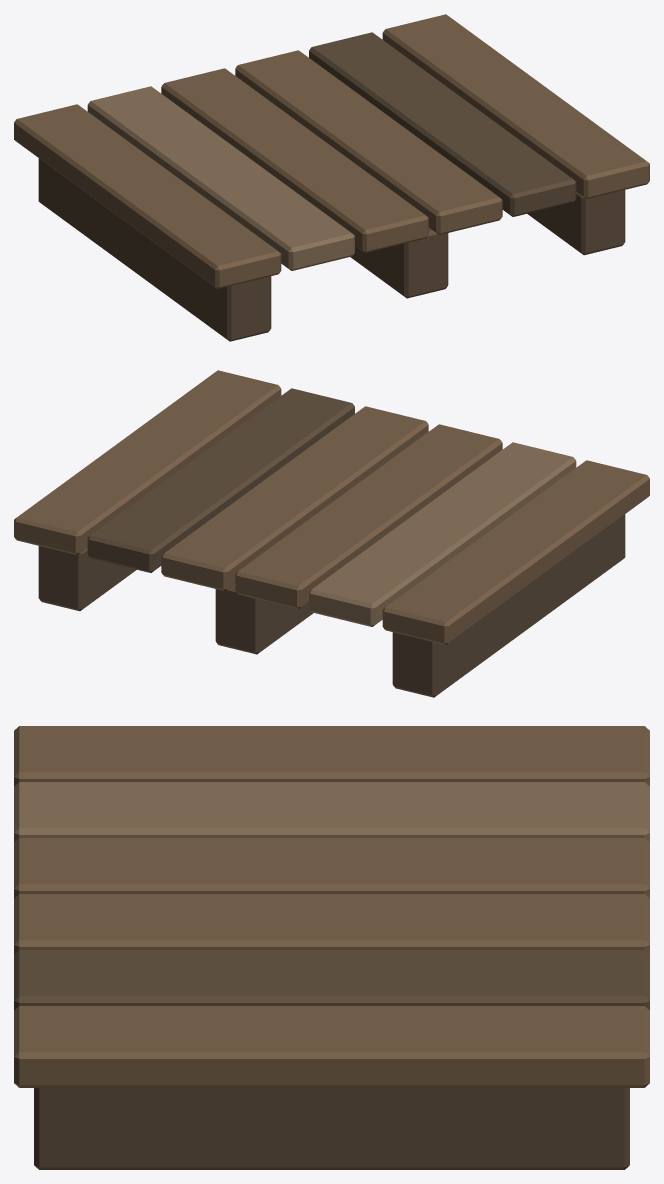
The model's file is Pallet01.fbx.
The picture shows the model from 3 angles, top to bottom: view 1: azimuth 30°, elevation 25°; view 2: azimuth 150°, elevation 25°; view 3: azimuth 270°, elevation 25°; orthographic projection. The views are drawn at different scales.
Visible parts, largest first — view 1: Deck_Plank, Deck_Plank.003, Deck_Plank.004, Deck_Plank.002, Deck_Plank.001, Deck_Plank.005, Runner, Runner.001, Runner.002; view 2: Deck_Plank, Deck_Plank.003, Deck_Plank.004, Deck_Plank.002, Deck_Plank.001, Deck_Plank.005, Runner, Runner.001, Runner.002; view 3: Deck_Plank.005, Runner.002, Deck_Plank, Deck_Plank.001, Deck_Plank.002, Deck_Plank.003, Deck_Plank.004.
Boxes of the visible parts, <box> form: Deck_Plank: <box>14,104,281,288</box>; Deck_Plank.003: <box>235,50,502,234</box>; Deck_Plank.004: <box>309,32,576,216</box>; Deck_Plank.002: <box>161,68,428,252</box>; Deck_Plank.001: <box>87,86,354,270</box>; Deck_Plank.005: <box>382,14,649,199</box>; Runner: <box>38,158,271,341</box>; Runner.001: <box>350,228,448,298</box>; Runner.002: <box>527,190,625,255</box>; Deck_Plank: <box>382,460,649,644</box>; Deck_Plank.003: <box>161,406,428,590</box>; Deck_Plank.004: <box>87,388,354,572</box>; Deck_Plank.002: <box>235,424,502,608</box>; Deck_Plank.001: <box>309,442,576,626</box>; Deck_Plank.005: <box>14,370,281,555</box>; Runner: <box>392,514,625,697</box>; Runner.001: <box>215,584,313,654</box>; Runner.002: <box>38,546,136,611</box>; Deck_Plank.005: <box>14,1006,649,1087</box>; Runner.002: <box>34,1088,629,1169</box>; Deck_Plank: <box>14,726,649,786</box>; Deck_Plank.001: <box>14,782,649,842</box>; Deck_Plank.002: <box>14,838,649,898</box>; Deck_Plank.003: <box>14,894,649,954</box>; Deck_Plank.004: <box>14,950,649,1010</box>.
Size of the model in its own units: 118 by 22 by 96.
